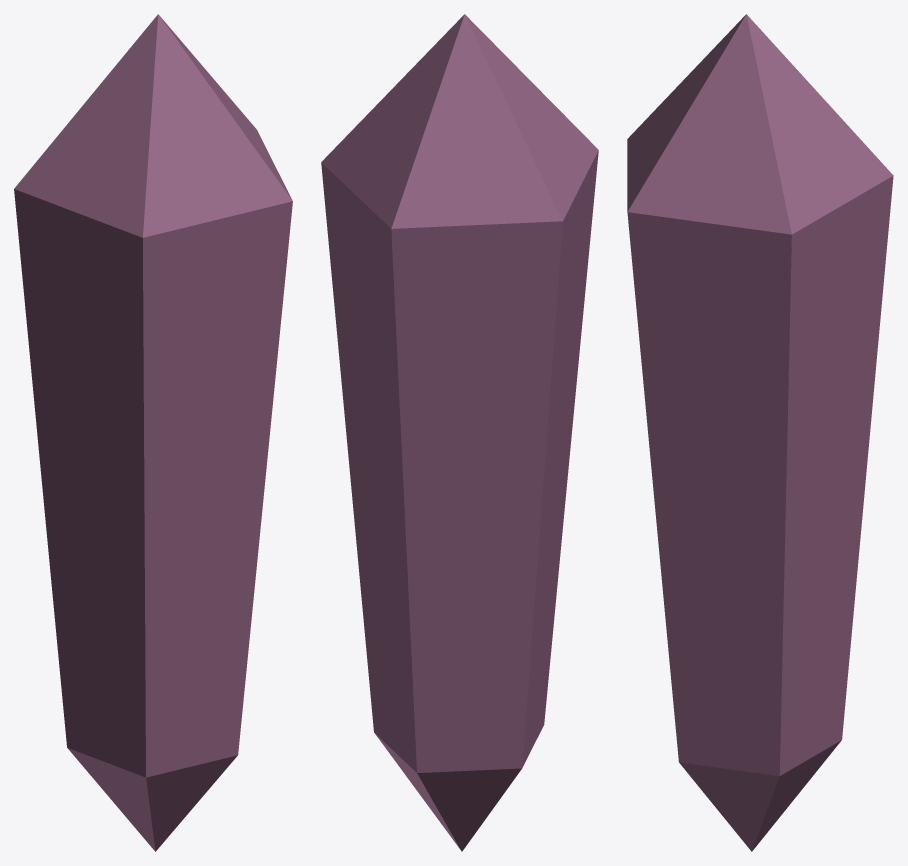
The model's file is Jem_41.fbx.
3 views of the same model, side by side, from view 1: azimuth 30°, elevation 25°; view 2: azimuth 150°, elevation 25°; view 3: azimuth 270°, elevation 25° (orthographic).
Visible parts, largest first — view 1: Jem_41; view 2: Jem_41; view 3: Jem_41.
Boxes of the visible parts, x1,y1,x2,y2 form: Jem_41: [14, 14, 292, 851]; Jem_41: [321, 14, 598, 851]; Jem_41: [627, 14, 893, 851].
Bounding box in the file's own units: 25.81 × 85.27 × 24.54.
